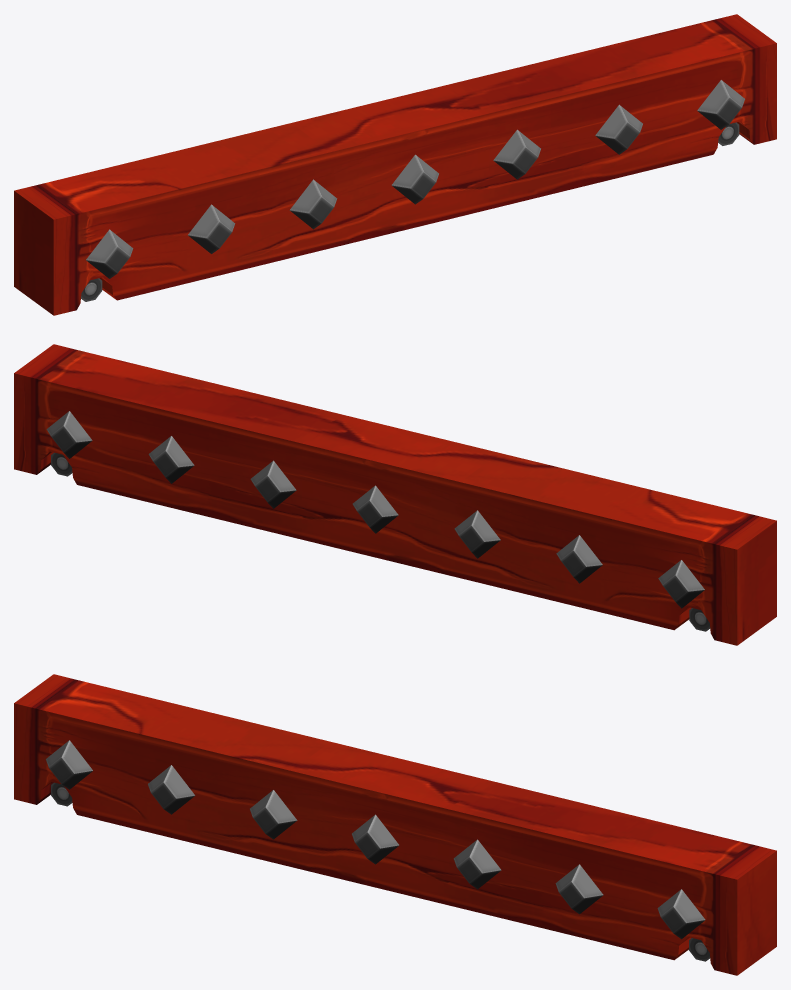
The model's file is dynamic_fence_rad_04.fbx.
The picture shows the model from 3 angles, top to bottom: view 1: azimuth 30°, elevation 25°; view 2: azimuth 150°, elevation 25°; view 3: azimuth 330°, elevation 25°; orthographic projection.
Parts seen in each view (by area): view 1: dynamic_fence_rad_04; view 2: dynamic_fence_rad_04; view 3: dynamic_fence_rad_04.
Boxes of the visible parts, box(x1,y1,x2,y2) form: dynamic_fence_rad_04: box(14, 14, 776, 315); dynamic_fence_rad_04: box(14, 344, 776, 645); dynamic_fence_rad_04: box(14, 674, 776, 975).
Size of the model in its own units: 315 by 40 by 40.76.
